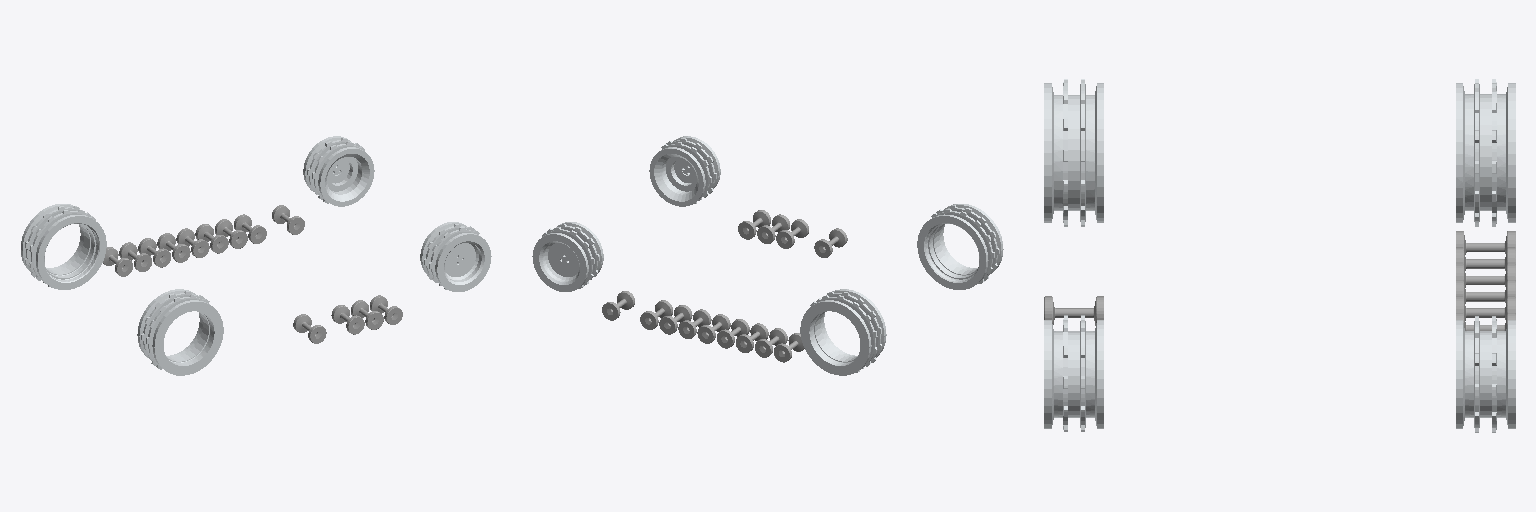
--- Render facts (derived) ---
3 views of the same robot in one strip: view 1: azimuth 30°, elevation 25°; view 2: azimuth 150°, elevation 25°; view 3: azimuth 270°, elevation 25° (orthographic).
Robot: mini_ugv_asm — 27 links, 26 joints (26 continuous); root link base_link; default pose: all joints at 0.
Links seen in each view (by area): view 1: Front_Wheel_Left, Front_Wheel_Right, Rear_Wheel_Right, Rear_Wheel_Left, R_Roller_6, R_Roller_4, L_Roller_1, L_Roller_6, L_Roller_7, L_Roller_4, L_Roller_5, R_Roller_3 (+2 smaller); view 2: Front_Wheel_Right, Front_Wheel_Left, Rear_Wheel_Left, Rear_Wheel_Right, R_Roller_4, R_Roller_6, L_Roller_1, L_Roller_6, L_Roller_3, R_Roller_2, L_Roller_4, L_Roller_7 (+2 smaller); view 3: Front_Wheel_Right, Front_Wheel_Left, Rear_Wheel_Left, Rear_Wheel_Right, R_Roller_6, L_Roller_9, L_Roller_7, L_Roller_6, L_Roller_10, L_Roller_8.
Boxes of the visible links, left/top/right/bottom form: Front_Wheel_Left: left=137, top=289, right=223, bottom=375; Front_Wheel_Right: left=21, top=204, right=106, bottom=289; Rear_Wheel_Right: left=303, top=136, right=374, bottom=206; Rear_Wheel_Left: left=420, top=222, right=491, bottom=291; R_Roller_6: left=293, top=314, right=326, bottom=343; R_Roller_4: left=331, top=305, right=364, bottom=334; L_Roller_1: left=272, top=205, right=304, bottom=234; L_Roller_6: left=176, top=228, right=209, bottom=257; L_Roller_7: left=157, top=233, right=190, bottom=262; L_Roller_4: left=215, top=219, right=247, bottom=248; L_Roller_5: left=195, top=224, right=228, bottom=253; R_Roller_3: left=351, top=300, right=383, bottom=329; Front_Wheel_Right: left=800, top=289, right=886, bottom=375; Front_Wheel_Left: left=917, top=204, right=1003, bottom=289; Rear_Wheel_Left: left=649, top=136, right=720, bottom=206; Rear_Wheel_Right: left=532, top=222, right=603, bottom=291; R_Roller_4: left=776, top=219, right=808, bottom=248; R_Roller_6: left=814, top=228, right=847, bottom=257; L_Roller_1: left=602, top=291, right=634, bottom=320; L_Roller_6: left=697, top=314, right=730, bottom=343; L_Roller_3: left=640, top=300, right=672, bottom=329; R_Roller_2: left=738, top=210, right=770, bottom=239; L_Roller_4: left=659, top=305, right=692, bottom=334; L_Roller_7: left=717, top=319, right=749, bottom=348; Front_Wheel_Right: left=1456, top=79, right=1515, bottom=226; Front_Wheel_Left: left=1044, top=79, right=1103, bottom=226; Rear_Wheel_Left: left=1044, top=315, right=1103, bottom=431; Rear_Wheel_Right: left=1456, top=316, right=1515, bottom=432; R_Roller_6: left=1044, top=296, right=1103, bottom=325; L_Roller_9: left=1456, top=247, right=1515, bottom=270; L_Roller_7: left=1456, top=280, right=1515, bottom=303; L_Roller_6: left=1456, top=296, right=1515, bottom=320; L_Roller_10: left=1456, top=231, right=1515, bottom=254; L_Roller_8: left=1456, top=264, right=1515, bottom=287.
Size in the robot's own frame: 0.8669 by 0.59 by 0.1867 metres.
17 mesh visuals loaded from 27 distinct referenced files (17 binary STL); not drawn: 10 (reference not matched to a file when rendering).

robot.urdf — mini_ugv_asm:
<?xml version="1.0" encoding="utf-8"?>
<!-- This URDF was automatically created by SolidWorks to URDF Exporter! Originally created by Stephen Brawner ([email redacted]) 
     Commit Version: 1.6.0-4-g7f85cfe  Build Version: 1.6.7995.38578
     For more information, please see http://wiki.ros.org/sw_urdf_exporter -->
<robot
  name="mini_ugv_asm">
  <link
    name="base_link">
    <inertial>
      <origin
        xyz="-0.0822009683879234 -0.00354592124515457 0.0195704968008771"
        rpy="0 0 0" />
      <mass
        value="43.2527722253491" />
      <inertia
        ixx="0.636823963556697"
        ixy="-0.000430801390176523"
        ixz="0.0114672691633471"
        iyy="1.44056741497044"
        iyz="-0.000941262680704078"
        izz="1.89219708661203" />
    </inertial>
    <visual>
      <origin
        xyz="0 0 0"
        rpy="0 0 0" />
      <geometry>
        <mesh
          filename="package://mini_ugv_asm/meshes/base_link.STL" />
      </geometry>
      <material
        name="">
        <color
          rgba="0.698039215686274 0.698039215686274 0.698039215686274 1" />
      </material>
    </visual>
    <collision>
      <origin
        xyz="0 0 0"
        rpy="0 0 0" />
      <geometry>
        <mesh
          filename="package://mini_ugv_asm/meshes/base_link.STL" />
      </geometry>
    </collision>
  </link>
  <link
    name="Rear_Wheel_Left">
    <inertial>
      <origin
        xyz="-4.4397E-07 0.0068282 2.7756E-17"
        rpy="0 0 0" />
      <mass
        value="1.3168" />
      <inertia
        ixx="0.0023855"
        ixy="-6.126E-09"
        ixz="5.4928E-19"
        iyy="0.0036694"
        iyz="1.2599E-19"
        izz="0.0023855" />
    </inertial>
    <visual>
      <origin
        xyz="0 0 0"
        rpy="0 0 0" />
      <geometry>
        <mesh
          filename="package://mini_ugv_asm/meshes/Rear_Wheel_Left.STL" />
      </geometry>
      <material
        name="">
        <color
          rgba="0.89804 0.91765 0.92941 1" />
      </material>
    </visual>
    <collision>
      <origin
        xyz="0 0 0"
        rpy="0 0 0" />
      <geometry>
        <mesh
          filename="package://mini_ugv_asm/meshes/Rear_Wheel_Left.STL" />
      </geometry>
    </collision>
  </link>
  <joint
    name="R_W_L"
    type="continuous">
    <origin
      xyz="0.36016 -0.2664 0.009"
      rpy="0 0 0" />
    <parent
      link="base_link" />
    <child
      link="Rear_Wheel_Left" />
    <axis
      xyz="0 1 0" />
  </joint>
  <link
    name="Rear_Wheel_Right">
    <inertial>
      <origin
        xyz="-1.1102E-16 -0.0068282 -4.4397E-07"
        rpy="0 0 0" />
      <mass
        value="1.3168" />
      <inertia
        ixx="0.0023855"
        ixy="1.0123E-20"
        ixz="3.3599E-19"
        iyy="0.0036694"
        iyz="6.126E-09"
        izz="0.0023855" />
    </inertial>
    <visual>
      <origin
        xyz="0 0 0"
        rpy="0 0 0" />
      <geometry>
        <mesh
          filename="package://mini_ugv_asm/meshes/Rear_Wheel_Right.STL" />
      </geometry>
      <material
        name="">
        <color
          rgba="0.89804 0.91765 0.92941 1" />
      </material>
    </visual>
    <collision>
      <origin
        xyz="0 0 0"
        rpy="0 0 0" />
      <geometry>
        <mesh
          filename="package://mini_ugv_asm/meshes/Rear_Wheel_Right.STL" />
      </geometry>
    </collision>
  </link>
  <joint
    name="R_W_R"
    type="continuous">
    <origin
      xyz="0.36016 0.2664 0.009"
      rpy="0 0 0" />
    <parent
      link="base_link" />
    <child
      link="Rear_Wheel_Right" />
    <axis
      xyz="0 1 0" />
  </joint>
  <link
    name="Front_Wheel_Left">
    <inertial>
      <origin
        xyz="8.3267E-17 0.0073593 0"
        rpy="0 0 0" />
      <mass
        value="1.4353" />
      <inertia
        ixx="0.004811"
        ixy="-1.8817E-19"
        ixz="1.0723E-18"
        iyy="0.008112"
        iyz="6.6574E-19"
        izz="0.004811" />
    </inertial>
    <visual>
      <origin
        xyz="0 0 0"
        rpy="0 0 0" />
      <geometry>
        <mesh
          filename="package://mini_ugv_asm/meshes/Front_Wheel_Left.STL" />
      </geometry>
      <material
        name="">
        <color
          rgba="0.89804 0.91765 0.92941 1" />
      </material>
    </visual>
    <collision>
      <origin
        xyz="0 0 0"
        rpy="0 0 0" />
      <geometry>
        <mesh
          filename="package://mini_ugv_asm/meshes/Front_Wheel_Left.STL" />
      </geometry>
    </collision>
  </link>
  <joint
    name="F_W_L"
    type="continuous">
    <origin
      xyz="-0.33984 -0.2664 -0.011"
      rpy="0 0 0" />
    <parent
      link="base_link" />
    <child
      link="Front_Wheel_Left" />
    <axis
      xyz="0 1 0" />
  </joint>
  <link
    name="Front_Wheel_Right">
    <inertial>
      <origin
        xyz="2.9143E-16 -0.0073593 -3.0531E-16"
        rpy="0 0 0" />
      <mass
        value="1.4353" />
      <inertia
        ixx="0.004811"
        ixy="-5.2818E-19"
        ixz="1.5753E-18"
        iyy="0.008112"
        iyz="-4.2567E-19"
        izz="0.004811" />
    </inertial>
    <visual>
      <origin
        xyz="0 0 0"
        rpy="0 0 0" />
      <geometry>
        <mesh
          filename="package://mini_ugv_asm/meshes/Front_Wheel_Right.STL" />
      </geometry>
      <material
        name="">
        <color
          rgba="0.89804 0.91765 0.92941 1" />
      </material>
    </visual>
    <collision>
      <origin
        xyz="0 0 0"
        rpy="0 0 0" />
      <geometry>
        <mesh
          filename="package://mini_ugv_asm/meshes/Front_Wheel_Right.STL" />
      </geometry>
    </collision>
  </link>
  <joint
    name="F_W_R"
    type="continuous">
    <origin
      xyz="-0.33984 0.2664 -0.011"
      rpy="0 0 0" />
    <parent
      link="base_link" />
    <child
      link="Front_Wheel_Right" />
    <axis
      xyz="0 1 0" />
  </joint>
  <link
    name="Flippers_Left">
    <inertial>
      <origin
        xyz="1.7629E-05 -0.033132 5.3955E-05"
        rpy="0 0 0" />
      <mass
        value="3.0642" />
      <inertia
        ixx="0.00058759"
        ixy="-1.4902E-07"
        ixz="-3.3147E-07"
        iyy="0.0011056"
        iyz="-4.5892E-07"
        izz="0.00058668" />
    </inertial>
    <visual>
      <origin
        xyz="0 0 0"
        rpy="0 0 0" />
      <geometry>
        <mesh
          filename="package://mini_ugv_asm/meshes/Flippers_Left.STL" />
      </geometry>
      <material
        name="">
        <color
          rgba="0.69804 0.69804 0.69804 1" />
      </material>
    </visual>
    <collision>
      <origin
        xyz="0 0 0"
        rpy="0 0 0" />
      <geometry>
        <mesh
          filename="package://mini_ugv_asm/meshes/Flippers_Left.STL" />
      </geometry>
    </collision>
  </link>
  <joint
    name="F_L"
    type="continuous">
    <origin
      xyz="-0.33984 -0.2664 -0.011"
      rpy="0 0 0" />
    <parent
      link="base_link" />
    <child
      link="Flippers_Left" />
    <axis
      xyz="0 1 0" />
  </joint>
  <link
    name="Flippers_Right">
    <inertial>
      <origin
        xyz="-1.7561E-05 0.069532 -5.3977E-05"
        rpy="0 0 0" />
      <mass
        value="3.0642" />
      <inertia
        ixx="0.00058759"
        ixy="-1.5012E-07"
        ixz="-3.3147E-07"
        iyy="0.0011056"
        iyz="-4.5857E-07"
        izz="0.00058668" />
    </inertial>
    <visual>
      <origin
        xyz="0 0 0"
        rpy="0 0 0" />
      <geometry>
        <mesh
          filename="package://mini_ugv_asm/meshes/Flippers_Right.STL" />
      </geometry>
      <material
        name="">
        <color
          rgba="0.69804 0.69804 0.69804 1" />
      </material>
    </visual>
    <collision>
      <origin
        xyz="0 0 0"
        rpy="0 0 0" />
      <geometry>
        <mesh
          filename="package://mini_ugv_asm/meshes/Flippers_Right.STL" />
      </geometry>
    </collision>
  </link>
  <joint
    name="F_R"
    type="continuous">
    <origin
      xyz="-0.33984 0.23 -0.011"
      rpy="0 0 0" />
    <parent
      link="base_link" />
    <child
      link="Flippers_Right" />
    <axis
      xyz="0 -1 0" />
  </joint>
  <link
    name="R_Roller_1">
    <inertial>
      <origin
        xyz="-1.1102E-16 -5.7202E-07 2.7756E-17"
        rpy="0 0 0" />
      <mass
        value="0.051837" />
      <inertia
        ixx="5.1859E-05"
        ixy="-2.4838E-20"
        ixz="-5.9519E-20"
        iyy="1.3273E-05"
        iyz="-4.657E-20"
        izz="5.1859E-05" />
    </inertial>
    <visual>
      <origin
        xyz="0 0 0"
        rpy="0 0 0" />
      <geometry>
        <mesh
          filename="package://mini_ugv_asm/meshes/R_Roller_1.STL" />
      </geometry>
      <material
        name="">
        <color
          rgba="0.69804 0.69804 0.69804 1" />
      </material>
    </visual>
    <collision>
      <origin
        xyz="0 0 0"
        rpy="0 0 0" />
      <geometry>
        <mesh
          filename="package://mini_ugv_asm/meshes/R_Roller_1.STL" />
      </geometry>
    </collision>
  </link>
  <joint
    name="rr1"
    type="continuous">
    <origin
      xyz="0.23166 -0.2575 -0.07925"
      rpy="0 0 0" />
    <parent
      link="base_link" />
    <child
      link="R_Roller_1" />
    <axis
      xyz="0 1 0" />
  </joint>
  <link
    name="R_Roller_2">
    <inertial>
      <origin
        xyz="2.2204E-16 -5.7202E-07 -1.5266E-16"
        rpy="0 0 0" />
      <mass
        value="0.051837" />
      <inertia
        ixx="5.1859E-05"
        ixy="-1.2265E-19"
        ixz="-5.1659E-21"
        iyy="1.3273E-05"
        iyz="3.963E-20"
        izz="5.1859E-05" />
    </inertial>
    <visual>
      <origin
        xyz="0 0 0"
        rpy="0 0 0" />
      <geometry>
        <mesh
          filename="package://mini_ugv_asm/meshes/R_Roller_2.STL" />
      </geometry>
      <material
        name="">
        <color
          rgba="0.69804 0.69804 0.69804 1" />
      </material>
    </visual>
    <collision>
      <origin
        xyz="0 0 0"
        rpy="0 0 0" />
      <geometry>
        <mesh
          filename="package://mini_ugv_asm/meshes/R_Roller_2.STL" />
      </geometry>
    </collision>
  </link>
  <joint
    name="rr2"
    type="continuous">
    <origin
      xyz="0.18316 -0.2575 -0.07925"
      rpy="0 0 0" />
    <parent
      link="base_link" />
    <child
      link="R_Roller_2" />
    <axis
      xyz="0 1 0" />
  </joint>
  <link
    name="R_Roller_3">
    <inertial>
      <origin
        xyz="-1.1102E-16 -5.7202E-07 8.3267E-17"
        rpy="0 0 0" />
      <mass
        value="0.051837" />
      <inertia
        ixx="5.1859E-05"
        ixy="8.14E-20"
        ixz="1.0677E-19"
        iyy="1.3273E-05"
        iyz="-4.2563E-20"
        izz="5.1859E-05" />
    </inertial>
    <visual>
      <origin
        xyz="0 0 0"
        rpy="0 0 0" />
      <geometry>
        <mesh
          filename="package://mini_ugv_asm/meshes/R_Roller_3.STL" />
      </geometry>
      <material
        name="">
        <color
          rgba="0.69804 0.69804 0.69804 1" />
      </material>
    </visual>
    <collision>
      <origin
        xyz="0 0 0"
        rpy="0 0 0" />
      <geometry>
        <mesh
          filename="package://mini_ugv_asm/meshes/R_Roller_3.STL" />
      </geometry>
    </collision>
  </link>
  <joint
    name="rr3"
    type="continuous">
    <origin
      xyz="0.13466 -0.2575 -0.07925"
      rpy="0 0 0" />
    <parent
      link="base_link" />
    <child
      link="R_Roller_3" />
    <axis
      xyz="0 1 0" />
  </joint>
  <link
    name="R_Roller_4">
    <inertial>
      <origin
        xyz="0 -5.7202E-07 -8.3267E-17"
        rpy="0 0 0" />
      <mass
        value="0.051837" />
      <inertia
        ixx="5.1859E-05"
        ixy="-1.2838E-19"
        ixz="4.0242E-20"
        iyy="1.3273E-05"
        iyz="2.0481E-20"
        izz="5.1859E-05" />
    </inertial>
    <visual>
      <origin
        xyz="0 0 0"
        rpy="0 0 0" />
      <geometry>
        <mesh
          filename="package://mini_ugv_asm/meshes/R_Roller_4.STL" />
      </geometry>
      <material
        name="">
        <color
          rgba="0.69804 0.69804 0.69804 1" />
      </material>
    </visual>
    <collision>
      <origin
        xyz="0 0 0"
        rpy="0 0 0" />
      <geometry>
        <mesh
          filename="package://mini_ugv_asm/meshes/R_Roller_4.STL" />
      </geometry>
    </collision>
  </link>
  <joint
    name="rr4"
    type="continuous">
    <origin
      xyz="0.086163 -0.2575 -0.07925"
      rpy="0 0 0" />
    <parent
      link="base_link" />
    <child
      link="R_Roller_4" />
    <axis
      xyz="0 1 0" />
  </joint>
  <link
    name="R_Roller_5">
    <inertial>
      <origin
        xyz="0 -5.7202E-07 -9.7145E-17"
        rpy="0 0 0" />
      <mass
        value="0.051837" />
      <inertia
        ixx="5.1859E-05"
        ixy="-1.3783E-19"
        ixz="4.9588E-20"
        iyy="1.3273E-05"
        iyz="6.7041E-21"
        izz="5.1859E-05" />
    </inertial>
    <visual>
      <origin
        xyz="0 0 0"
        rpy="0 0 0" />
      <geometry>
        <mesh
          filename="package://mini_ugv_asm/meshes/R_Roller_5.STL" />
      </geometry>
      <material
        name="">
        <color
          rgba="0.69804 0.69804 0.69804 1" />
      </material>
    </visual>
    <collision>
      <origin
        xyz="0 0 0"
        rpy="0 0 0" />
      <geometry>
        <mesh
          filename="package://mini_ugv_asm/meshes/R_Roller_5.STL" />
      </geometry>
    </collision>
  </link>
  <joint
    name="rr5"
    type="continuous">
    <origin
      xyz="0.037663 -0.2575 -0.07925"
      rpy="0 0 0" />
    <parent
      link="base_link" />
    <child
      link="R_Roller_5" />
    <axis
      xyz="0 1 0" />
  </joint>
  <link
    name="R_Roller_6">
    <inertial>
      <origin
        xyz="-5.5511E-17 -5.7202E-07 5.5511E-17"
        rpy="0 0 0" />
      <mass
        value="0.051837" />
      <inertia
        ixx="5.1859E-05"
        ixy="2.3549E-19"
        ixz="4.437E-21"
        iyy="1.3273E-05"
        iyz="-4.3926E-20"
        izz="5.1859E-05" />
    </inertial>
    <visual>
      <origin
        xyz="0 0 0"
        rpy="0 0 0" />
      <geometry>
        <mesh
          filename="package://mini_ugv_asm/meshes/R_Roller_6.STL" />
      </geometry>
      <material
        name="">
        <color
          rgba="0.69804 0.69804 0.69804 1" />
      </material>
    </visual>
    <collision>
      <origin
        xyz="0 0 0"
        rpy="0 0 0" />
      <geometry>
        <mesh
          filename="package://mini_ugv_asm/meshes/R_Roller_6.STL" />
      </geometry>
    </collision>
  </link>
  <joint
    name="rr6"
    type="continuous">
    <origin
      xyz="-0.010837 -0.2575 -0.07925"
      rpy="0 0 0" />
    <parent
      link="base_link" />
    <child
      link="R_Roller_6" />
    <axis
      xyz="0 1 0" />
  </joint>
  <link
    name="R_Roller_7">
    <inertial>
      <origin
        xyz="1.6653E-16 -5.7202E-07 -6.9389E-17"
        rpy="0 0 0" />
      <mass
        value="0.051837" />
      <inertia
        ixx="5.1859E-05"
        ixy="1.1597E-19"
        ixz="2.9154E-22"
        iyy="1.3273E-05"
        iyz="-4.8308E-21"
        izz="5.1859E-05" />
    </inertial>
    <visual>
      <origin
        xyz="0 0 0"
        rpy="0 0 0" />
      <geometry>
        <mesh
          filename="package://mini_ugv_asm/meshes/R_Roller_7.STL" />
      </geometry>
      <material
        name="">
        <color
          rgba="0.69804 0.69804 0.69804 1" />
      </material>
    </visual>
    <collision>
      <origin
        xyz="0 0 0"
        rpy="0 0 0" />
      <geometry>
        <mesh
          filename="package://mini_ugv_asm/meshes/R_Roller_7.STL" />
      </geometry>
    </collision>
  </link>
  <joint
    name="rr7"
    type="continuous">
    <origin
      xyz="-0.059337 -0.2575 -0.07925"
      rpy="0 0 0" />
    <parent
      link="base_link" />
    <child
      link="R_Roller_7" />
    <axis
      xyz="0 1 0" />
  </joint>
  <link
    name="R_Roller_8">
    <inertial>
      <origin
        xyz="1.1102E-16 -5.7202E-07 -5.5511E-17"
        rpy="0 0 0" />
      <mass
        value="0.051837" />
      <inertia
        ixx="5.1859E-05"
        ixy="1.1597E-19"
        ixz="2.9154E-22"
        iyy="1.3273E-05"
        iyz="-4.8308E-21"
        izz="5.1859E-05" />
    </inertial>
    <visual>
      <origin
        xyz="0 0 0"
        rpy="0 0 0" />
      <geometry>
        <mesh
          filename="package://mini_ugv_asm/meshes/R_Roller_8.STL" />
      </geometry>
      <material
        name="">
        <color
          rgba="0.69804 0.69804 0.69804 1" />
      </material>
    </visual>
    <collision>
      <origin
        xyz="0 0 0"
        rpy="0 0 0" />
      <geometry>
        <mesh
          filename="package://mini_ugv_asm/meshes/R_Roller_8.STL" />
      </geometry>
    </collision>
  </link>
  <joint
    name="rr8"
    type="continuous">
    <origin
      xyz="-0.10784 -0.2575 -0.07925"
      rpy="0 0 0" />
    <parent
      link="base_link" />
    <child
      link="R_Roller_8" />
    <axis
      xyz="0 1 0" />
  </joint>
  <link
    name="R_Roller_9">
    <inertial>
      <origin
        xyz="1.6653E-16 -5.7202E-07 -5.5511E-17"
        rpy="0 0 0" />
      <mass
        value="0.051837" />
      <inertia
        ixx="5.1859E-05"
        ixy="1.1597E-19"
        ixz="2.9154E-22"
        iyy="1.3273E-05"
        iyz="-4.8308E-21"
        izz="5.1859E-05" />
    </inertial>
    <visual>
      <origin
        xyz="0 0 0"
        rpy="0 0 0" />
      <geometry>
        <mesh
          filename="package://mini_ugv_asm/meshes/R_Roller_9.STL" />
      </geometry>
      <material
        name="">
        <color
          rgba="0.69804 0.69804 0.69804 1" />
      </material>
    </visual>
    <collision>
      <origin
        xyz="0 0 0"
        rpy="0 0 0" />
      <geometry>
        <mesh
          filename="package://mini_ugv_asm/meshes/R_Roller_9.STL" />
      </geometry>
    </collision>
  </link>
  <joint
    name="rr9"
    type="continuous">
    <origin
      xyz="-0.15634 -0.2575 -0.07925"
      rpy="0 0 0" />
    <parent
      link="base_link" />
    <child
      link="R_Roller_9" />
    <axis
      xyz="0 1 0" />
  </joint>
  <link
    name="R_Roller_10">
    <inertial>
      <origin
        xyz="2.2204E-16 -5.7202E-07 -8.3267E-17"
        rpy="0 0 0" />
      <mass
        value="0.051837" />
      <inertia
        ixx="5.1859E-05"
        ixy="-6.4079E-20"
        ixz="2.4481E-22"
        iyy="1.3273E-05"
        iyz="2.5428E-20"
        izz="5.1859E-05" />
    </inertial>
    <visual>
      <origin
        xyz="0 0 0"
        rpy="0 0 0" />
      <geometry>
        <mesh
          filename="package://mini_ugv_asm/meshes/R_Roller_10.STL" />
      </geometry>
      <material
        name="">
        <color
          rgba="0.69804 0.69804 0.69804 1" />
      </material>
    </visual>
    <collision>
      <origin
        xyz="0 0 0"
        rpy="0 0 0" />
      <geometry>
        <mesh
          filename="package://mini_ugv_asm/meshes/R_Roller_10.STL" />
      </geometry>
    </collision>
  </link>
  <joint
    name="rr10"
    type="continuous">
    <origin
      xyz="-0.20484 -0.2575 -0.07925"
      rpy="0 0 0" />
    <parent
      link="base_link" />
    <child
      link="R_Roller_10" />
    <axis
      xyz="0 1 0" />
  </joint>
  <link
    name="L_Roller_1">
    <inertial>
      <origin
        xyz="-1.1102E-16 -5.7202E-07 0"
        rpy="0 0 0" />
      <mass
        value="0.051837" />
      <inertia
        ixx="5.1859E-05"
        ixy="9.2222E-20"
        ixz="-5.9515E-20"
        iyy="1.3273E-05"
        iyz="-3.0992E-20"
        izz="5.1859E-05" />
    </inertial>
    <visual>
      <origin
        xyz="0 0 0"
        rpy="0 0 0" />
      <geometry>
        <mesh
          filename="package://mini_ugv_asm/meshes/L_Roller_1.STL" />
      </geometry>
      <material
        name="">
        <color
          rgba="0.69804 0.69804 0.69804 1" />
      </material>
    </visual>
    <collision>
      <origin
        xyz="0 0 0"
        rpy="0 0 0" />
      <geometry>
        <mesh
          filename="package://mini_ugv_asm/meshes/L_Roller_1.STL" />
      </geometry>
    </collision>
  </link>
  <joint
    name="lr1"
    type="continuous">
    <origin
      xyz="0.23166 0.2575 -0.07925"
      rpy="0 0 0" />
    <parent
      link="base_link" />
    <child
      link="L_Roller_1" />
    <axis
      xyz="0 1 0" />
  </joint>
  <link
    name="L_Roller_2">
    <inertial>
      <origin
        xyz="2.2204E-16 -5.7202E-07 -2.7756E-17"
        rpy="0 0 0" />
      <mass
        value="0.051837" />
      <inertia
        ixx="5.1859E-05"
        ixy="-4.3431E-20"
        ixz="6.1368E-20"
        iyy="1.3273E-05"
        iyz="5.5602E-20"
        izz="5.1859E-05" />
    </inertial>
    <visual>
      <origin
        xyz="0 0 0"
        rpy="0 0 0" />
      <geometry>
        <mesh
          filename="package://mini_ugv_asm/meshes/L_Roller_2.STL" />
      </geometry>
      <material
        name="">
        <color
          rgba="0.69804 0.69804 0.69804 1" />
      </material>
    </visual>
    <collision>
      <origin
        xyz="0 0 0"
        rpy="0 0 0" />
      <geometry>
        <mesh
          filename="package://mini_ugv_asm/meshes/L_Roller_2.STL" />
      </geometry>
    </collision>
  </link>
  <joint
    name="lr2"
    type="continuous">
    <origin
      xyz="0.18316 0.2575 -0.07925"
      rpy="0 0 0" />
    <parent
      link="base_link" />
    <child
      link="L_Roller_2" />
    <axis
      xyz="0 1 0" />
  </joint>
  <link
    name="L_Roller_3">
    <inertial>
      <origin
        xyz="-1.1102E-16 -5.7202E-07 5.5511E-17"
        rpy="0 0 0" />
      <mass
        value="0.051837" />
      <inertia
        ixx="5.1859E-05"
        ixy="-5.8286E-20"
        ixz="9.3699E-20"
        iyy="1.3273E-05"
        iyz="-1.919E-20"
        izz="5.1859E-05" />
    </inertial>
    <visual>
      <origin
        xyz="0 0 0"
        rpy="0 0 0" />
      <geometry>
        <mesh
          filename="package://mini_ugv_asm/meshes/L_Roller_3.STL" />
      </geometry>
      <material
        name="">
        <color
          rgba="0.69804 0.69804 0.69804 1" />
      </material>
    </visual>
    <collision>
      <origin
        xyz="0 0 0"
        rpy="0 0 0" />
      <geometry>
        <mesh
          filename="package://mini_ugv_asm/meshes/L_Roller_3.STL" />
      </geometry>
    </collision>
  </link>
  <joint
    name="lr3"
    type="continuous">
    <origin
      xyz="0.13466 0.2575 -0.07925"
      rpy="0 0 0" />
    <parent
      link="base_link" />
    <child
      link="L_Roller_3" />
    <axis
      xyz="0 1 0" />
  </joint>
  <link
    name="L_Roller_4">
    <inertial>
      <origin
        xyz="1.1102E-16 -5.7202E-07 -5.5511E-17"
        rpy="0 0 0" />
      <mass
        value="0.051837" />
      <inertia
        ixx="5.1859E-05"
        ixy="3.6738E-20"
        ixz="6.5546E-20"
        iyy="1.3273E-05"
        iyz="-1.3118E-20"
        izz="5.1859E-05" />
    </inertial>
    <visual>
      <origin
        xyz="0 0 0"
        rpy="0 0 0" />
      <geometry>
        <mesh
          filename="package://mini_ugv_asm/meshes/L_Roller_4.STL" />
      </geometry>
      <material
        name="">
        <color
          rgba="0.69804 0.69804 0.69804 1" />
      </material>
    </visual>
    <collision>
      <origin
        xyz="0 0 0"
        rpy="0 0 0" />
      <geometry>
        <mesh
          filename="package://mini_ugv_asm/meshes/L_Roller_4.STL" />
      </geometry>
    </collision>
  </link>
  <joint
    name="lr4"
    type="continuous">
    <origin
      xyz="0.086163 0.2575 -0.07925"
      rpy="0 0 0" />
    <parent
      link="base_link" />
    <child
      link="L_Roller_4" />
    <axis
      xyz="0 1 0" />
  </joint>
  <link
    name="L_Roller_5">
    <inertial>
      <origin
        xyz="-1.1102E-16 -5.7202E-07 4.1633E-17"
        rpy="0 0 0" />
      <mass
        value="0.051837" />
      <inertia
        ixx="5.1859E-05"
        ixy="-1.5476E-19"
        ixz="6.2815E-20"
        iyy="1.3273E-05"
        iyz="-4.1914E-20"
        izz="5.1859E-05" />
    </inertial>
    <visual>
      <origin
        xyz="0 0 0"
        rpy="0 0 0" />
      <geometry>
        <mesh
          filename="package://mini_ugv_asm/meshes/L_Roller_5.STL" />
      </geometry>
      <material
        name="">
        <color
          rgba="0.69804 0.69804 0.69804 1" />
      </material>
    </visual>
    <collision>
      <origin
        xyz="0 0 0"
        rpy="0 0 0" />
      <geometry>
        <mesh
          filename="package://mini_ugv_asm/meshes/L_Roller_5.STL" />
      </geometry>
    </collision>
  </link>
  <joint
    name="lr5"
    type="continuous">
    <origin
      xyz="0.037663 0.2575 -0.07925"
      rpy="0 0 0" />
    <parent
      link="base_link" />
    <child
      link="L_Roller_5" />
    <axis
      xyz="0 1 0" />
  </joint>
  <link
    name="L_Roller_6">
    <inertial>
      <origin
        xyz="1.1102E-16 -5.7202E-07 -4.1633E-17"
        rpy="0 0 0" />
      <mass
        value="0.051837" />
      <inertia
        ixx="5.1859E-05"
        ixy="-8.063E-20"
        ixz="5.6255E-20"
        iyy="1.3273E-05"
        iyz="7.8564E-20"
        izz="5.1859E-05" />
    </inertial>
    <visual>
      <origin
        xyz="0 0 0"
        rpy="0 0 0" />
      <geometry>
        <mesh
          filename="package://mini_ugv_asm/meshes/L_Roller_6.STL" />
      </geometry>
      <material
        name="">
        <color
          rgba="0.69804 0.69804 0.69804 1" />
      </material>
    </visual>
    <collision>
      <origin
        xyz="0 0 0"
        rpy="0 0 0" />
      <geometry>
        <mesh
          filename="package://mini_ugv_asm/meshes/L_Roller_6.STL" />
      </geometry>
    </collision>
  </link>
  <joint
    name="lr6"
    type="continuous">
    <origin
      xyz="-0.010837 0.2575 -0.07925"
      rpy="0 0 0" />
    <parent
      link="base_link" />
    <child
      link="L_Roller_6" />
    <axis
      xyz="0 1 0" />
  </joint>
  <link
    name="L_Roller_7">
    <inertial>
      <origin
        xyz="-1.1102E-16 -5.7202E-07 5.5511E-17"
        rpy="0 0 0" />
      <mass
        value="0.051837" />
      <inertia
        ixx="5.1859E-05"
        ixy="7.1052E-22"
        ixz="5.1495E-20"
        iyy="1.3273E-05"
        iyz="-1.274E-20"
        izz="5.1859E-05" />
    </inertial>
    <visual>
      <origin
        xyz="0 0 0"
        rpy="0 0 0" />
      <geometry>
        <mesh
          filename="package://mini_ugv_asm/meshes/L_Roller_7.STL" />
      </geometry>
      <material
        name="">
        <color
          rgba="0.69804 0.69804 0.69804 1" />
      </material>
    </visual>
    <collision>
      <origin
        xyz="0 0 0"
        rpy="0 0 0" />
      <geometry>
        <mesh
          filename="package://mini_ugv_asm/meshes/L_Roller_7.STL" />
      </geometry>
    </collision>
  </link>
  <joint
    name="lr7"
    type="continuous">
    <origin
      xyz="-0.059337 0.2575 -0.07925"
      rpy="0 0 0" />
    <parent
      link="base_link" />
    <child
      link="L_Roller_7" />
    <axis
      xyz="0 1 0" />
  </joint>
  <link
    name="L_Roller_8">
    <inertial>
      <origin
        xyz="1.1102E-16 -5.7202E-07 -4.1633E-17"
        rpy="0 0 0" />
      <mass
        value="0.051837" />
      <inertia
        ixx="5.1859E-05"
        ixy="4.5211E-20"
        ixz="5.4335E-20"
        iyy="1.3273E-05"
        iyz="-6.8407E-21"
        izz="5.1859E-05" />
    </inertial>
    <visual>
      <origin
        xyz="0 0 0"
        rpy="0 0 0" />
      <geometry>
        <mesh
          filename="package://mini_ugv_asm/meshes/L_Roller_8.STL" />
      </geometry>
      <material
        name="">
        <color
          rgba="0.69804 0.69804 0.69804 1" />
      </material>
    </visual>
    <collision>
      <origin
        xyz="0 0 0"
        rpy="0 0 0" />
      <geometry>
        <mesh
          filename="package://mini_ugv_asm/meshes/L_Roller_8.STL" />
      </geometry>
    </collision>
  </link>
  <joint
    name="lr8"
    type="continuous">
    <origin
      xyz="-0.10784 0.2575 -0.07925"
      rpy="0 0 0" />
    <parent
      link="base_link" />
    <child
      link="L_Roller_8" />
    <axis
      xyz="0 1 0" />
  </joint>
  <link
    name="L_Roller_9">
    <inertial>
      <origin
        xyz="-1.1102E-16 -5.7202E-07 5.5511E-17"
        rpy="0 0 0" />
      <mass
        value="0.051837" />
      <inertia
        ixx="5.1859E-05"
        ixy="1.5595E-19"
        ixz="4.717E-20"
        iyy="1.3273E-05"
        iyz="-3.0154E-20"
        izz="5.1859E-05" />
    </inertial>
    <visual>
      <origin
        xyz="0 0 0"
        rpy="0 0 0" />
      <geometry>
        <mesh
          filename="package://mini_ugv_asm/meshes/L_Roller_9.STL" />
      </geometry>
      <material
        name="">
        <color
          rgba="0.69804 0.69804 0.69804 1" />
      </material>
    </visual>
    <collision>
      <origin
        xyz="0 0 0"
        rpy="0 0 0" />
      <geometry>
        <mesh
          filename="package://mini_ugv_asm/meshes/L_Roller_9.STL" />
      </geometry>
    </collision>
  </link>
  <joint
    name="lr9"
    type="continuous">
    <origin
      xyz="-0.15634 0.2575 -0.07925"
      rpy="0 0 0" />
    <parent
      link="base_link" />
    <child
      link="L_Roller_9" />
    <axis
      xyz="0 1 0" />
  </joint>
  <link
    name="L_Roller_10">
    <inertial>
      <origin
        xyz="2.7756E-17 -5.7202E-07 -1.3878E-17"
        rpy="0 0 0" />
      <mass
        value="0.051837" />
      <inertia
        ixx="5.1859E-05"
        ixy="7.554E-20"
        ixz="-1.112E-20"
        iyy="1.3273E-05"
        iyz="2.9106E-20"
        izz="5.1859E-05" />
    </inertial>
    <visual>
      <origin
        xyz="0 0 0"
        rpy="0 0 0" />
      <geometry>
        <mesh
          filename="package://mini_ugv_asm/meshes/L_Roller_10.STL" />
      </geometry>
      <material
        name="">
        <color
          rgba="0.69804 0.69804 0.69804 1" />
      </material>
    </visual>
    <collision>
      <origin
        xyz="0 0 0"
        rpy="0 0 0" />
      <geometry>
        <mesh
          filename="package://mini_ugv_asm/meshes/L_Roller_10.STL" />
      </geometry>
    </collision>
  </link>
  <joint
    name="lr10"
    type="continuous">
    <origin
      xyz="-0.20484 0.2575 -0.07925"
      rpy="0 0 0" />
    <parent
      link="base_link" />
    <child
      link="L_Roller_10" />
    <axis
      xyz="0 1 0" />
  </joint>
</robot>
